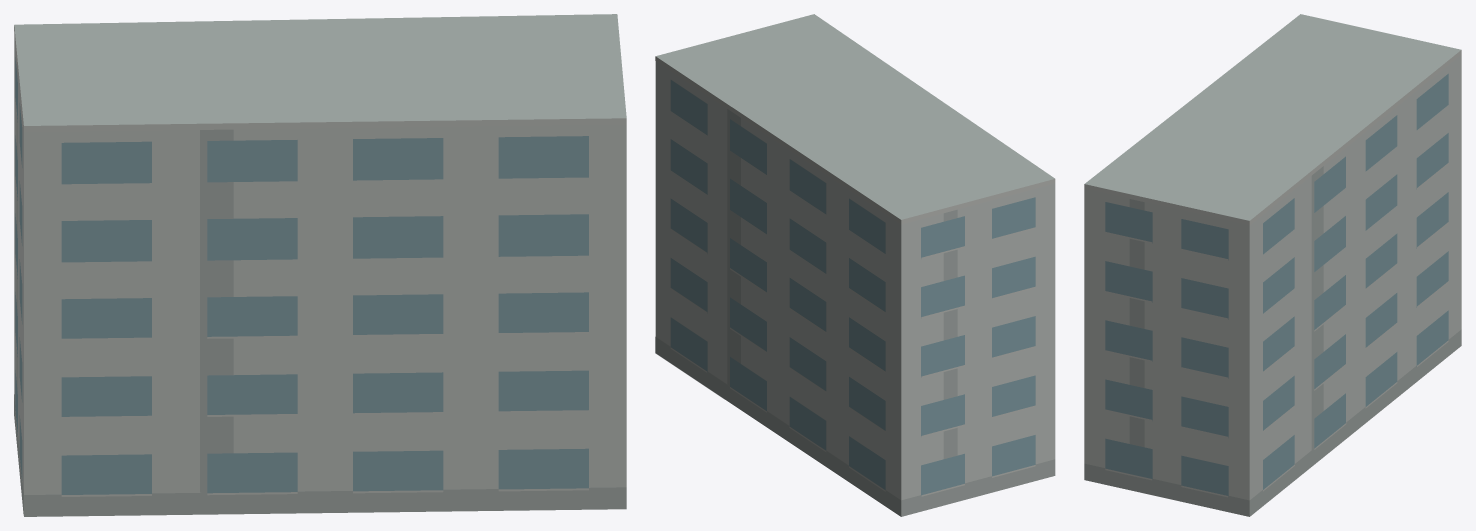
File: survey-upis-32850905.glb
3 renders of one model, left to right at view 1: azimuth 30°, elevation 25°; view 2: azimuth 150°, elevation 25°; view 3: azimuth 270°, elevation 25°, orthographic. The views are drawn at different scales.
Parts seen in each view (by area): view 1: survey-upis-32850905.tmp; view 2: survey-upis-32850905.tmp; view 3: survey-upis-32850905.tmp.
Boxes of the visible parts, <box> form: survey-upis-32850905.tmp: <box>14,14,626,516</box>; survey-upis-32850905.tmp: <box>655,14,1055,516</box>; survey-upis-32850905.tmp: <box>1084,14,1461,516</box>.
Bounding box in the file's own units: 22.87 × 15.25 × 17.62.
